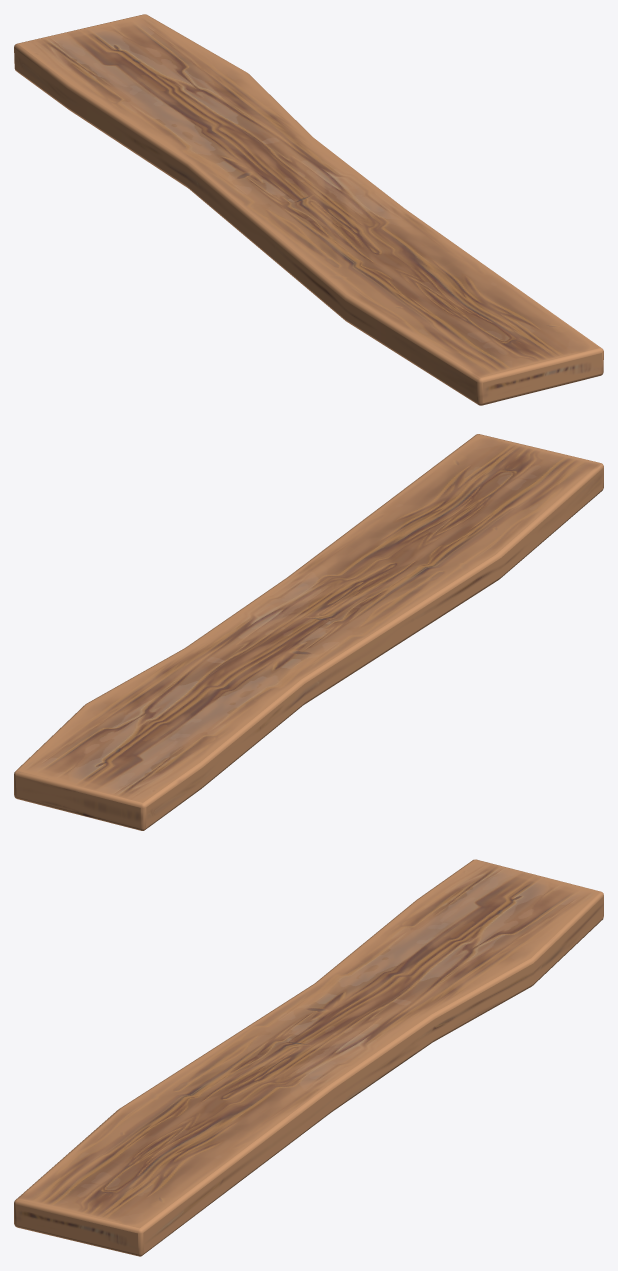
File: Tabua_03.fbx
The picture shows the model from 3 angles, top to bottom: view 1: azimuth 30°, elevation 25°; view 2: azimuth 150°, elevation 25°; view 3: azimuth 330°, elevation 25°; orthographic projection.
Visible parts, largest first — view 1: Tabua_02; view 2: Tabua_02; view 3: Tabua_02.
Boxes of the visible parts, left/top/right/bottom form: Tabua_02: left=14, top=14, right=603, bottom=405; Tabua_02: left=14, top=434, right=603, bottom=830; Tabua_02: left=14, top=859, right=603, bottom=1256.
Bounding box in the file's own units: 37.02 × 6.23 × 187.
